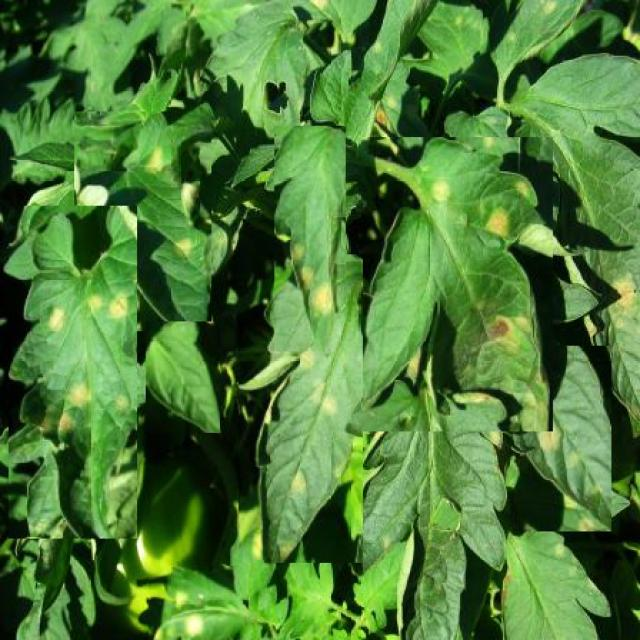Healthy: (146, 322, 220, 434)
Leaf Mold: (359, 137, 554, 432), (9, 206, 137, 538), (238, 255, 363, 562), (75, 112, 212, 331), (520, 347, 611, 532), (275, 126, 345, 351), (148, 565, 248, 640)
